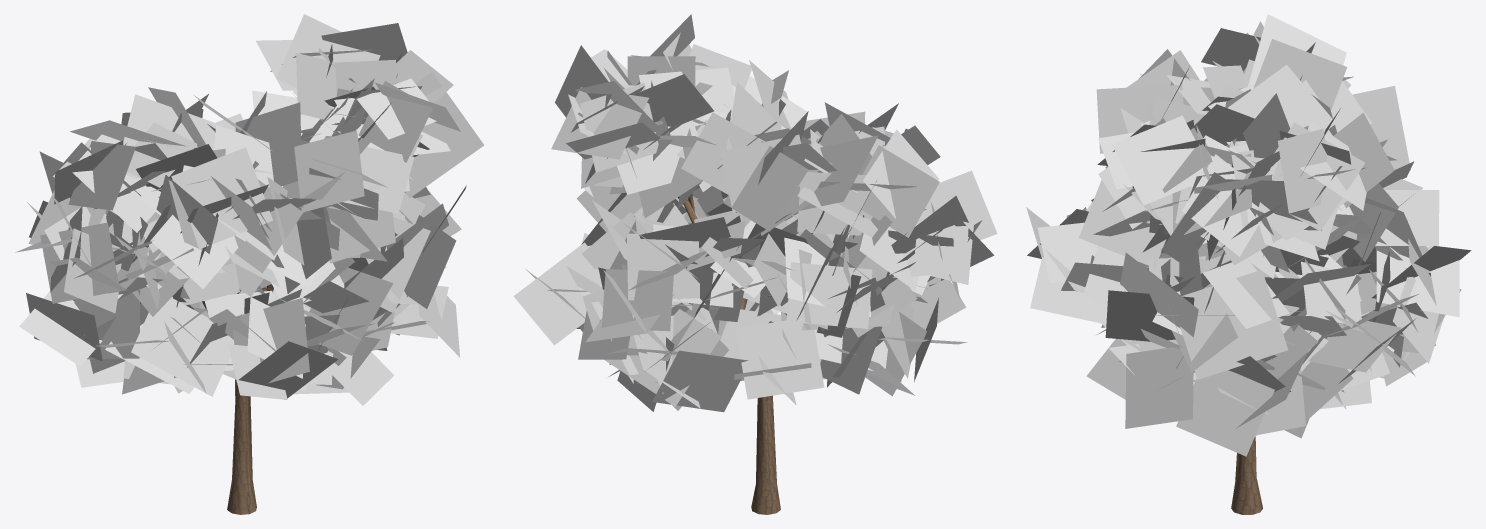
The model's file is OakCrown_v04_LOD1.fbx.
3 views of the same model, side by side, from view 1: azimuth 30°, elevation 25°; view 2: azimuth 150°, elevation 25°; view 3: azimuth 270°, elevation 25° (orthographic). The views are drawn at different scales.
Parts seen in each view (by area): view 1: Foliage.001, Bark.001; view 2: Foliage.001, Bark.001; view 3: Foliage.001, Bark.001.
Part boxes in pixels (x1,y1,x2,y2): Foliage.001: (15,14,484,405); Bark.001: (202,284,273,514); Foliage.001: (513,14,997,412); Bark.001: (678,194,780,514); Foliage.001: (1026,14,1471,456); Bark.001: (1193,380,1262,514).
Size of the model in its own units: 12.69 by 12.72 by 11.23.
